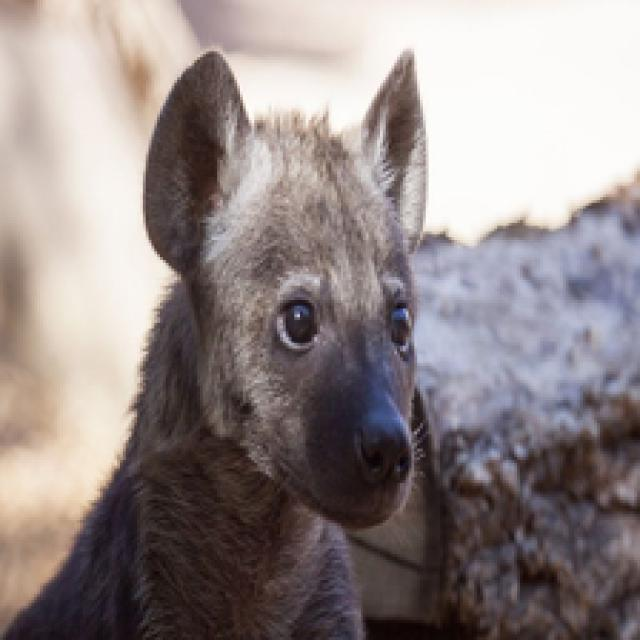hyena: (105, 43, 478, 572)
